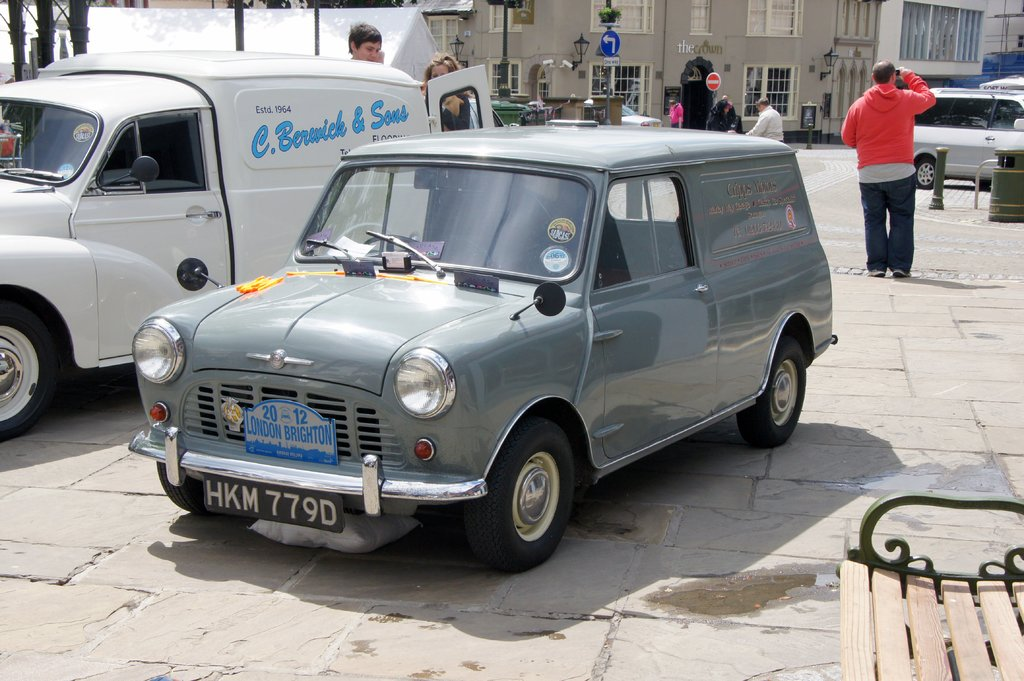Car: (125, 123, 835, 570)
